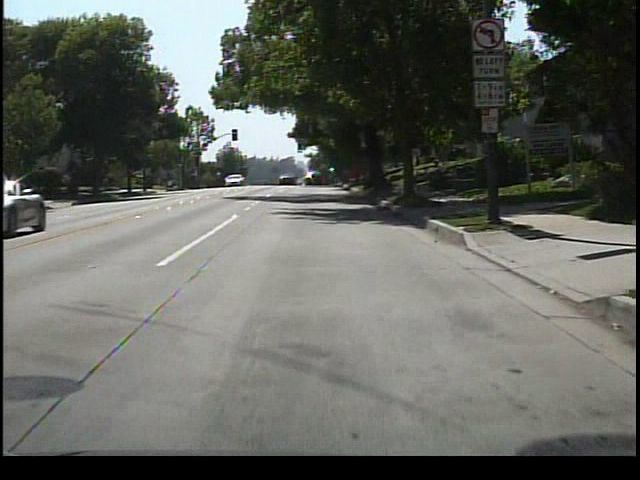person: (429, 155, 450, 192)
